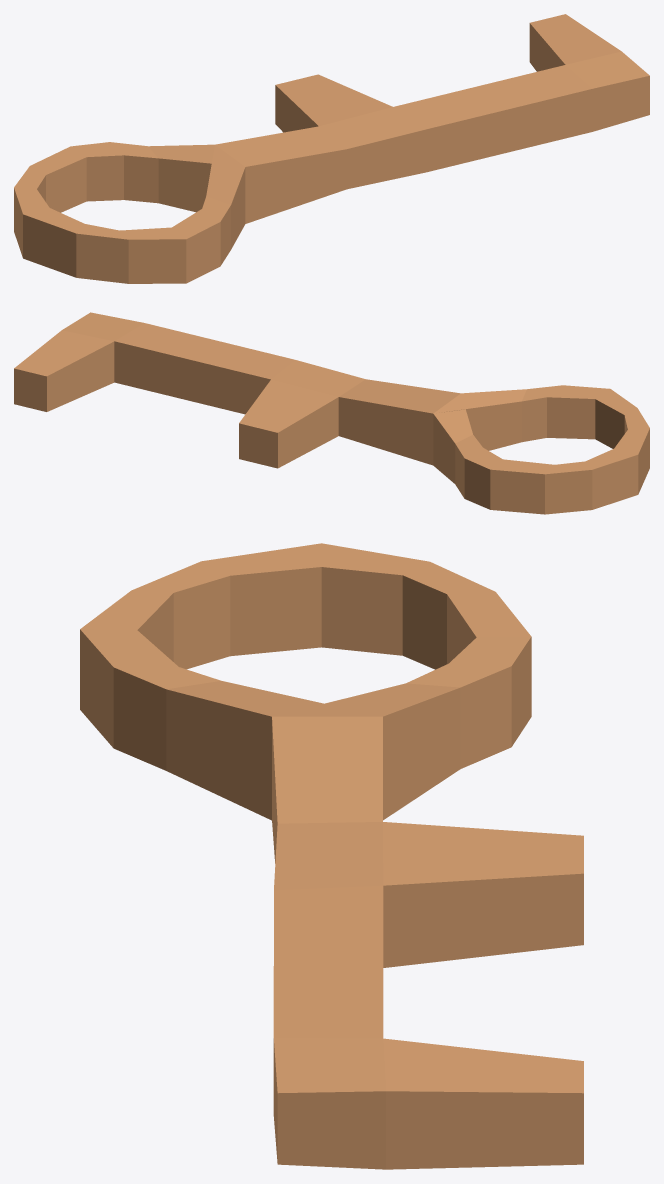
Rendered from BronzeKey.glb.
3 renders of one model, top to bottom at view 1: azimuth 30°, elevation 25°; view 2: azimuth 150°, elevation 25°; view 3: azimuth 270°, elevation 25°, orthographic. The views are drawn at different scales.
Parts seen in each view (by area): view 1: BronzeKey__Cube; view 2: BronzeKey__Cube; view 3: BronzeKey__Cube.
Part boxes in pixels (box(x1,y1,x2,y2)): BronzeKey__Cube: box(14, 14, 649, 283); BronzeKey__Cube: box(14, 312, 649, 514); BronzeKey__Cube: box(80, 543, 583, 1169).
Bounding box in the file's own units: 0.85 × 0.0753 × 0.3309.
